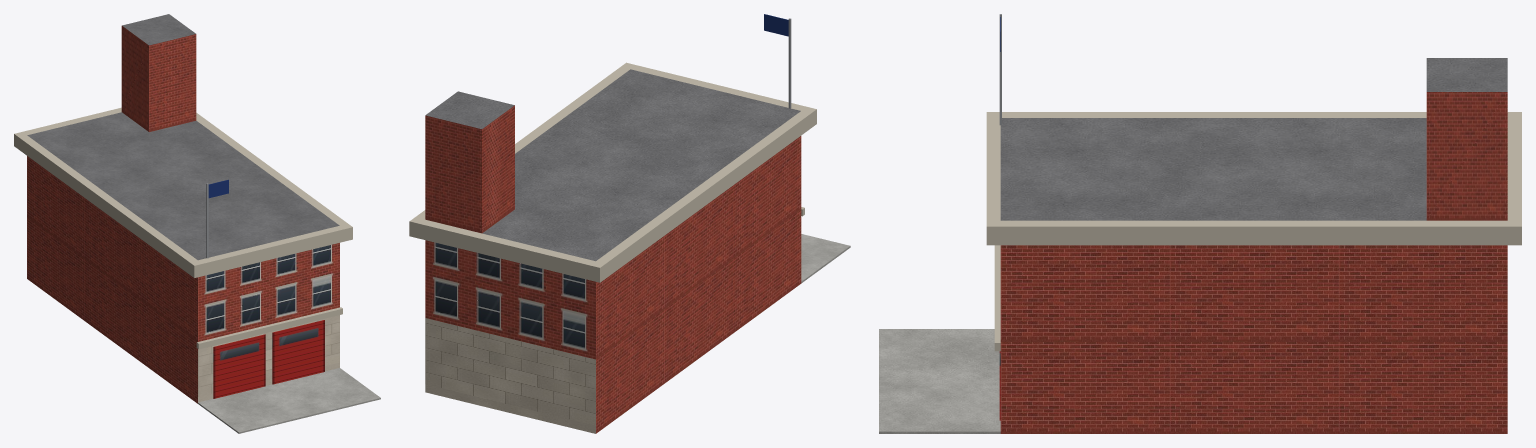
The model's file is 071_firehouse.glb.
The picture shows the model from 3 angles, left to right: view 1: azimuth 30°, elevation 25°; view 2: azimuth 150°, elevation 25°; view 3: azimuth 270°, elevation 25°; orthographic projection. The views are drawn at different scales.
Parts seen in each view (by area): view 1: 071_firehouse; view 2: 071_firehouse; view 3: 071_firehouse.
Boxes of the visible parts, x1=… form: 071_firehouse: x1=14, y1=14, x2=380, y2=433; 071_firehouse: x1=409, y1=14, x2=850, y2=433; 071_firehouse: x1=879, y1=14, x2=1521, y2=433.
Size of the model in its own units: 13.4 by 18.6 by 31.7.
Materials: 9 (6 with a texture image).
